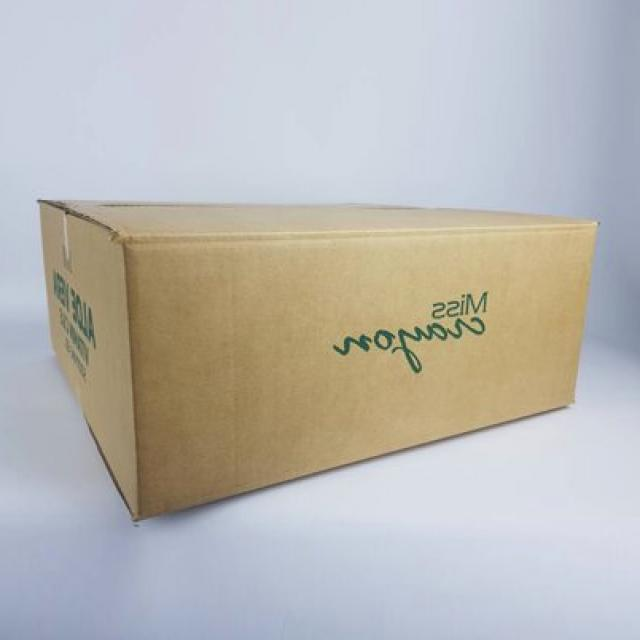box: (23, 176, 604, 534)
